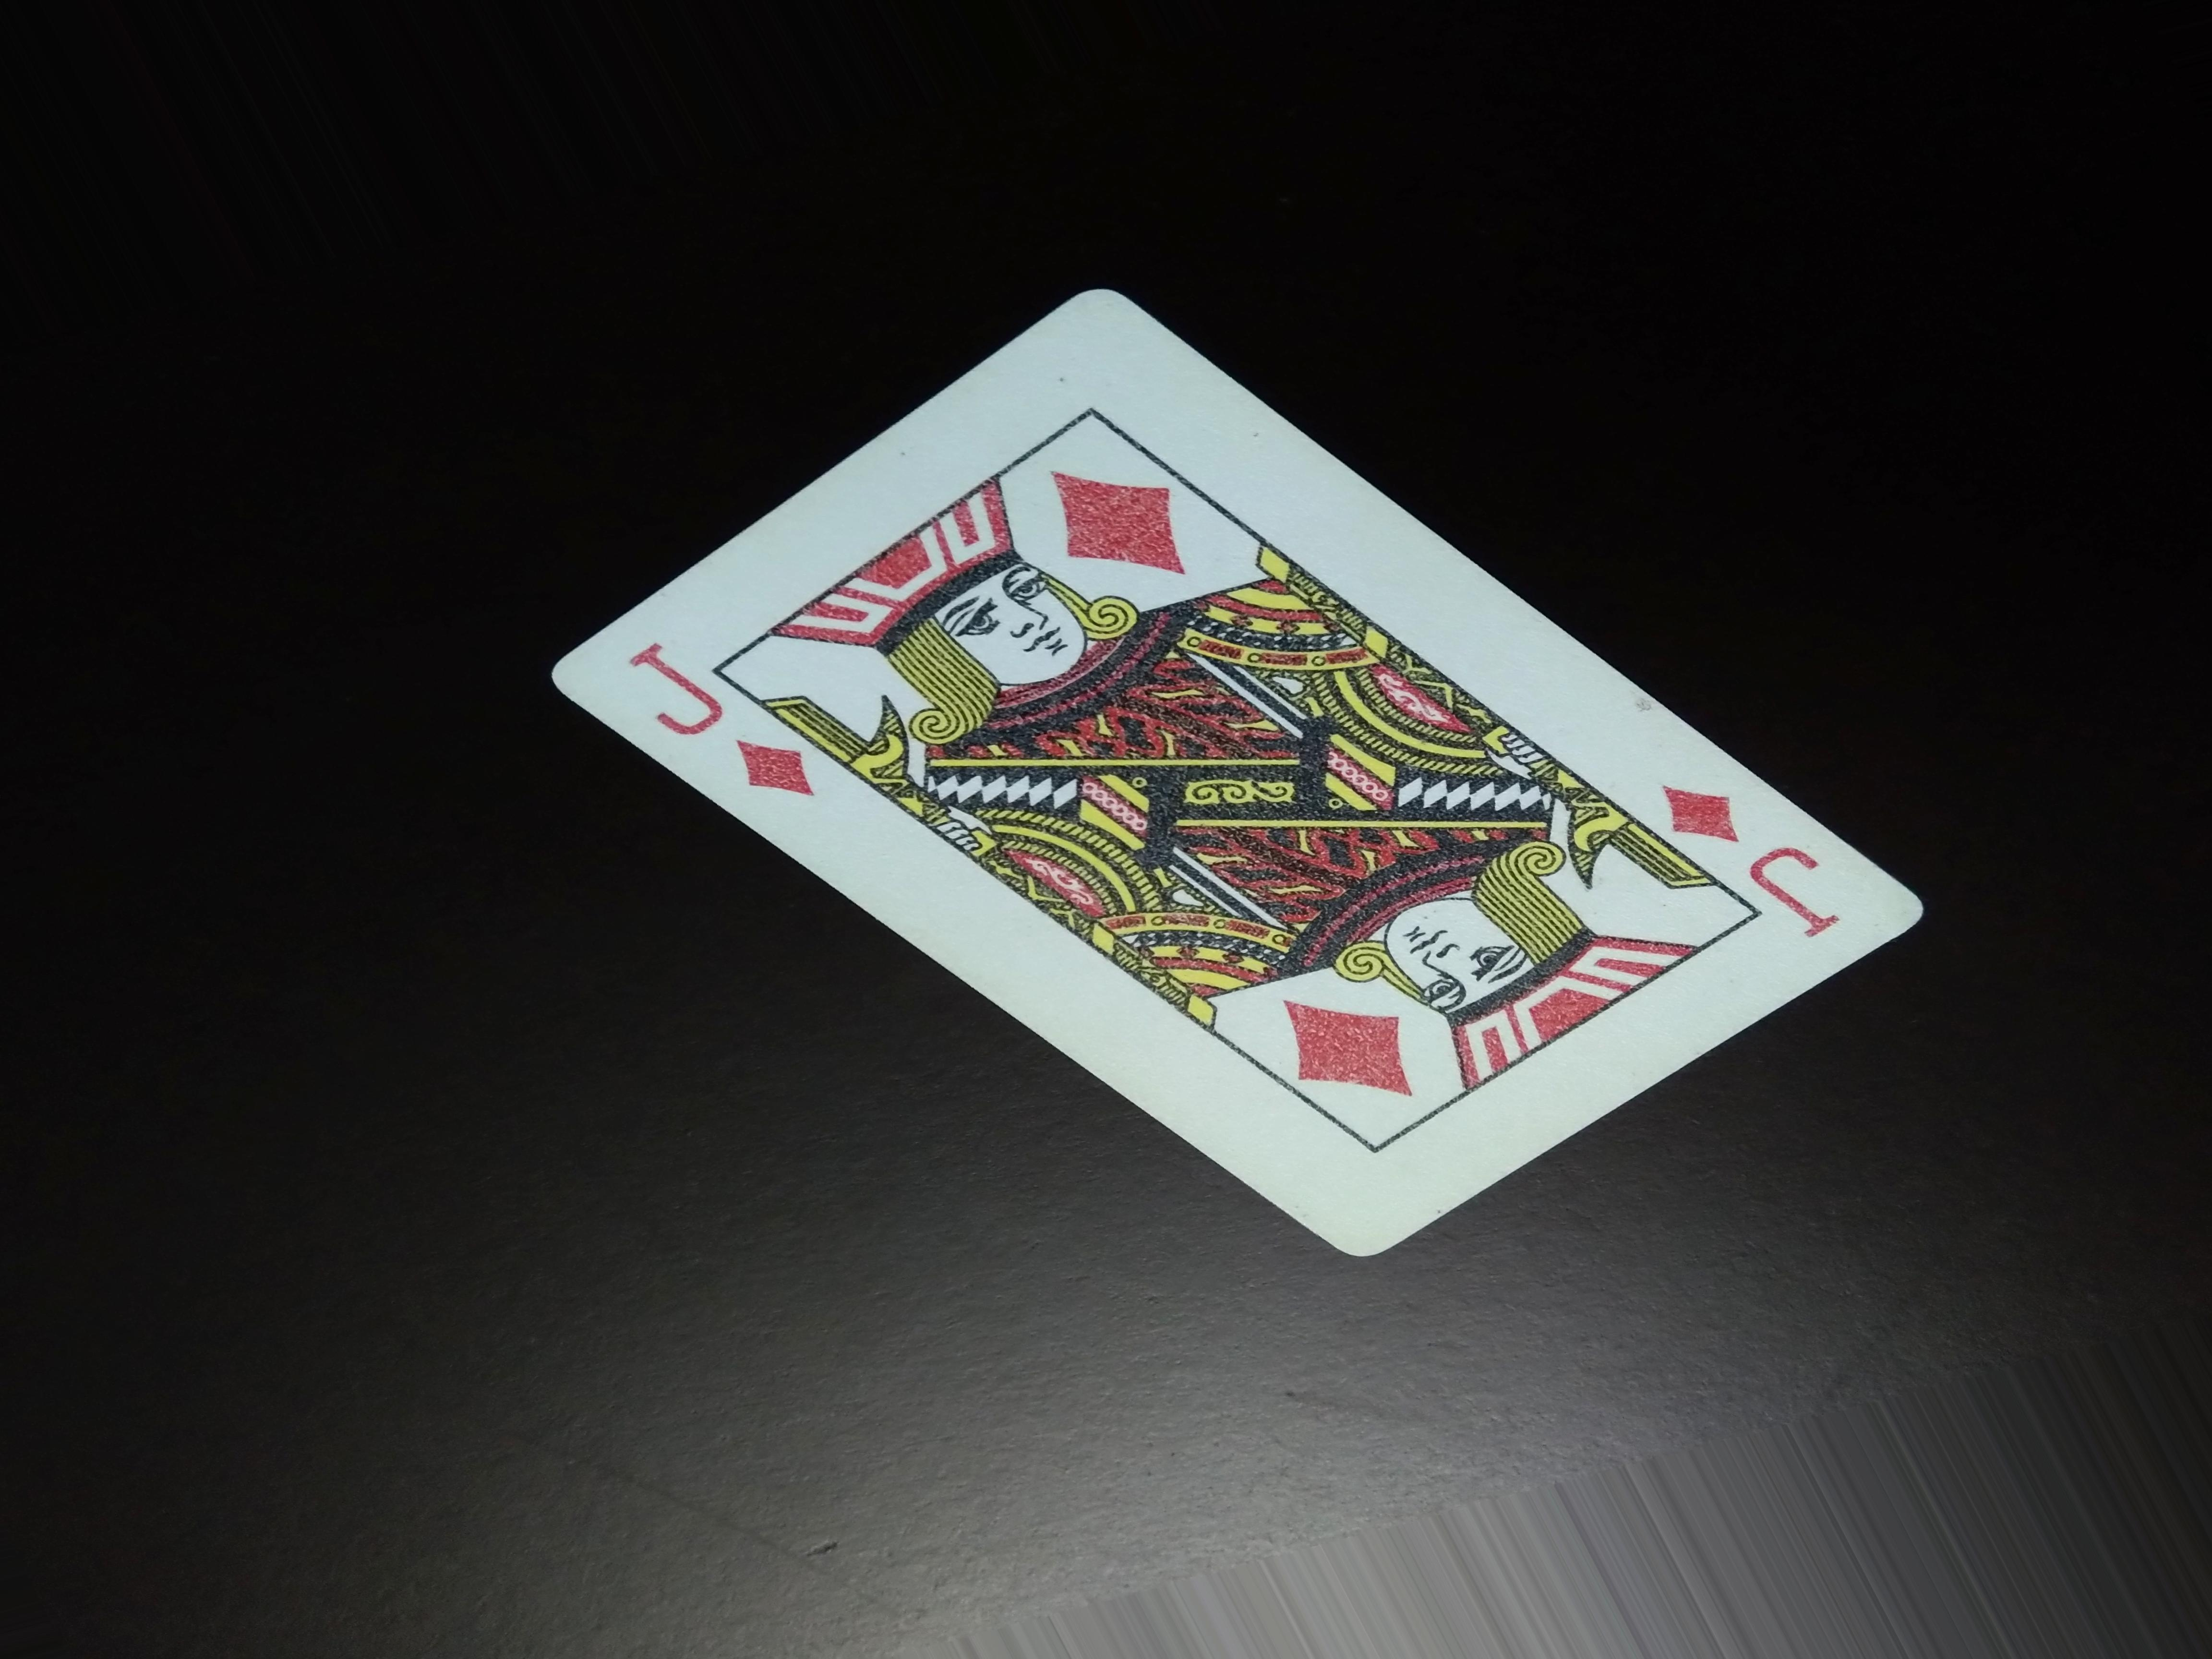JD: (1656, 782, 1848, 960)
